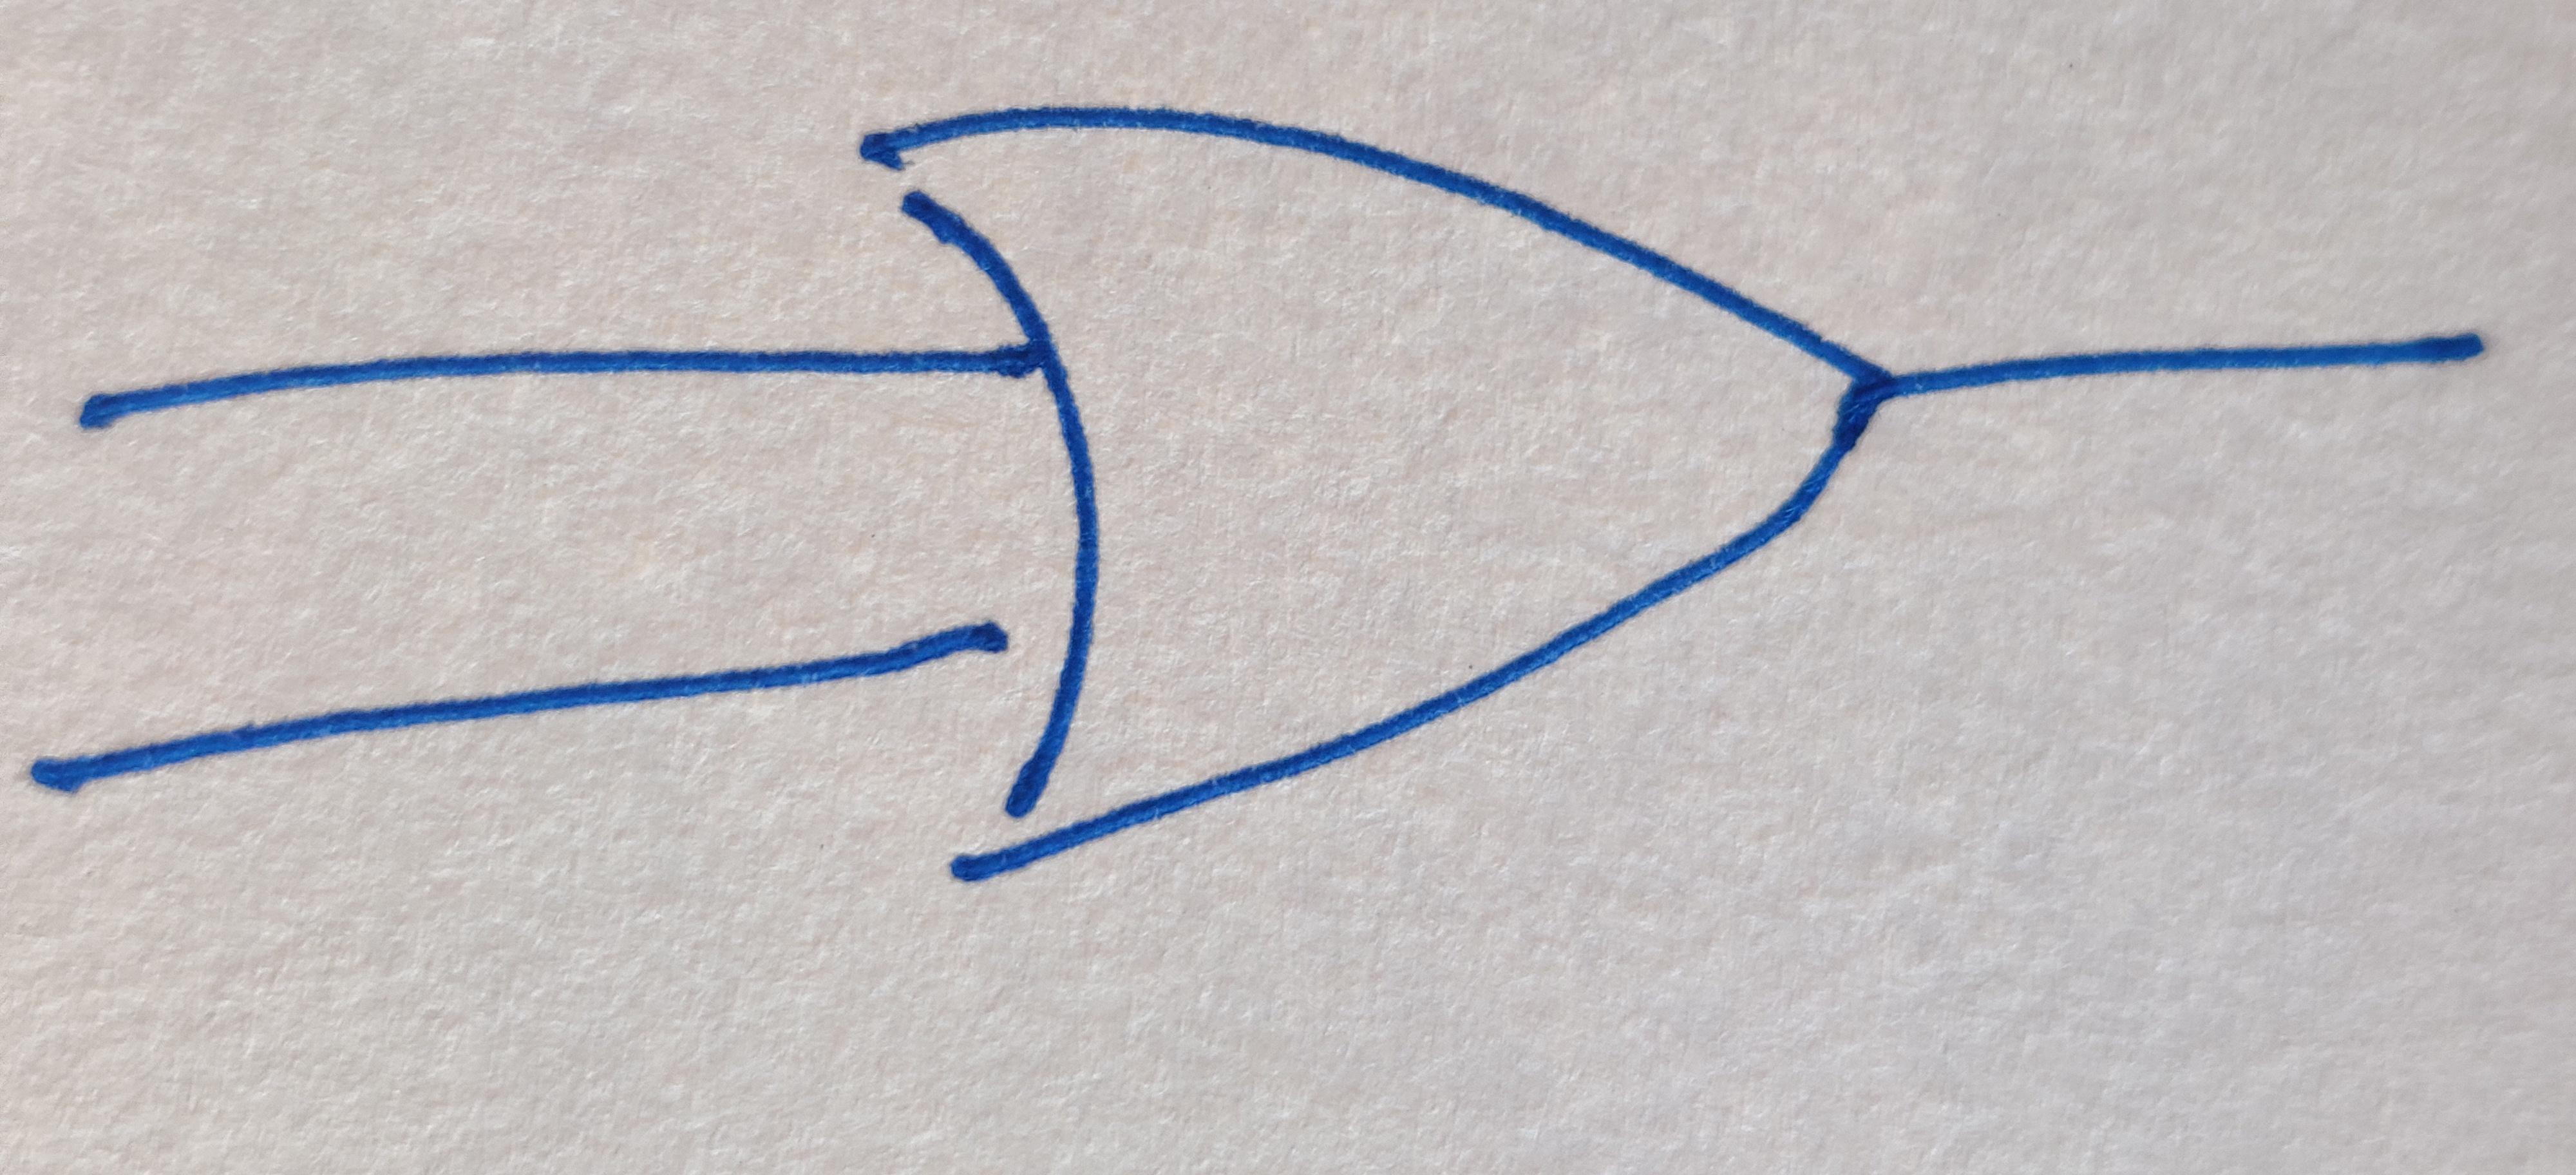or: (861, 105, 1894, 882)
